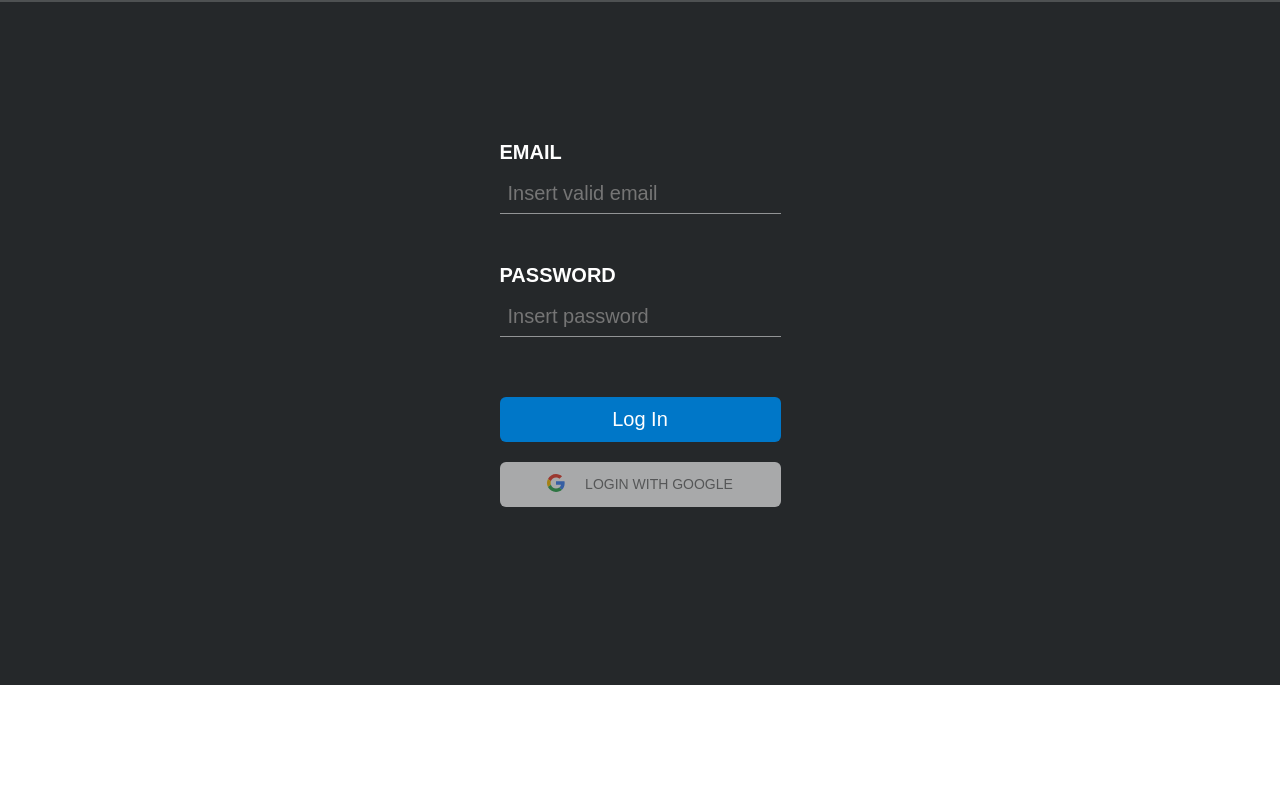
Test case: on submit, with no input data login, required errors show up
The width and height of the screenshot is (1280, 800).
Click the button "Log In". click: point(640, 419)
box: [500,396,780,442]
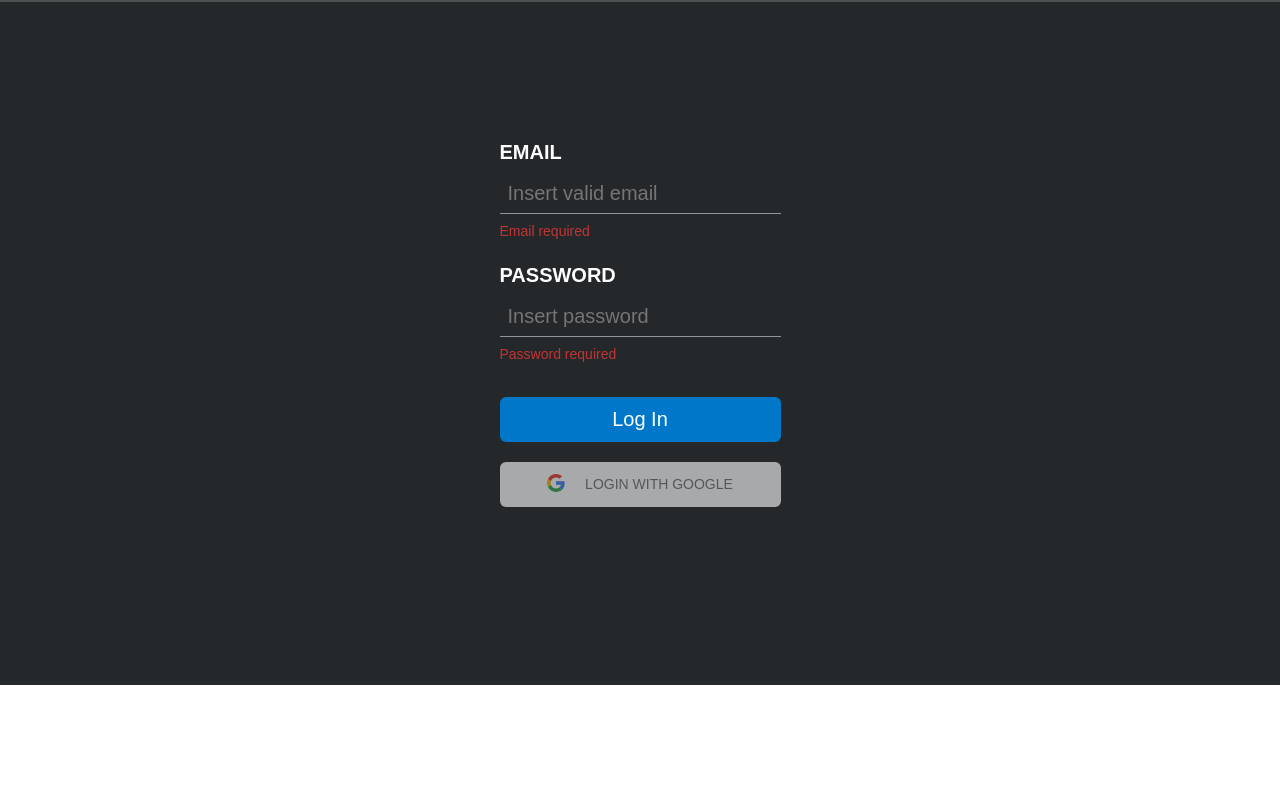
Expected: the text "Email required" is shown, [500,222,590,238]
Expected: the text "Password required" is shown, [500,346,616,362]
